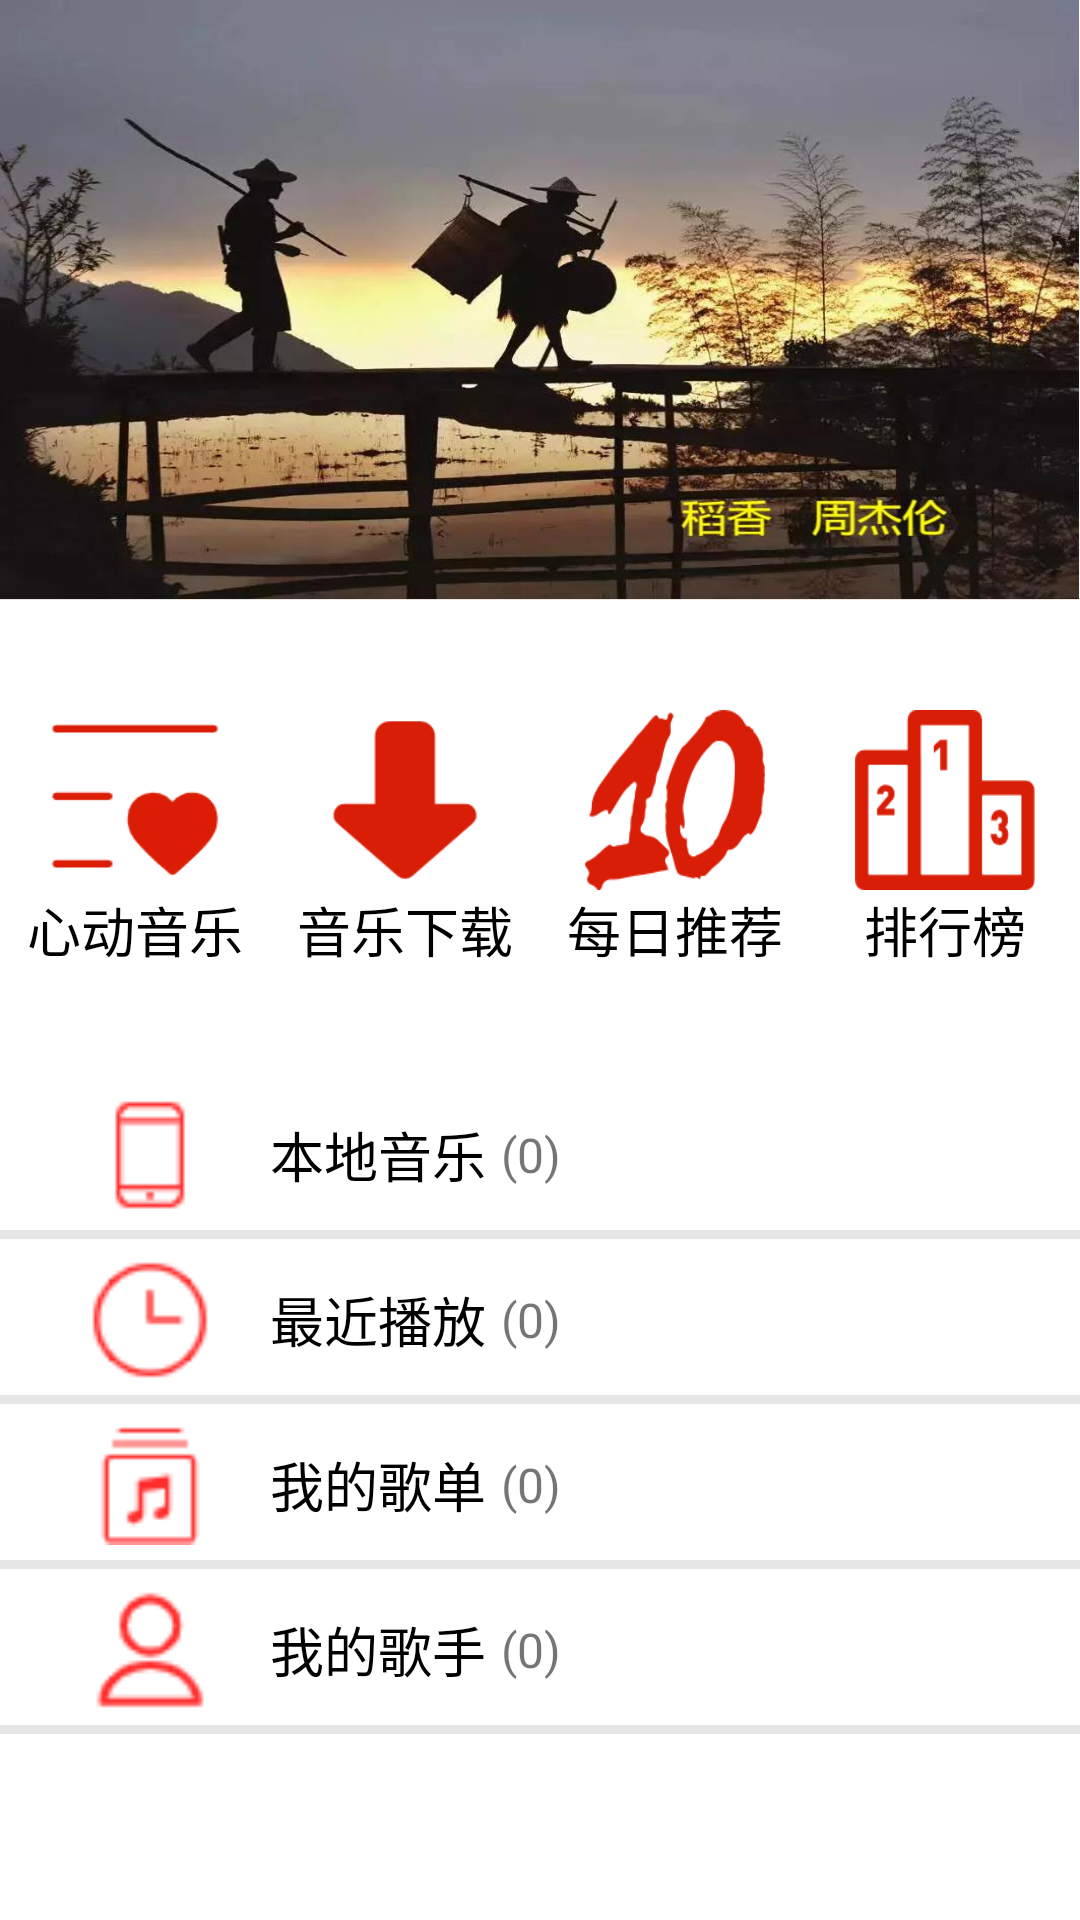

Point at icon controls on the screen. Image size 1080*1920, points as (x=x, y=y).
favoriteslist: (x=135, y=800)
localsong: (x=150, y=1155)
mysinger: (x=150, y=1650)
recentplayed: (x=150, y=1320)
songset: (x=150, y=1486)
